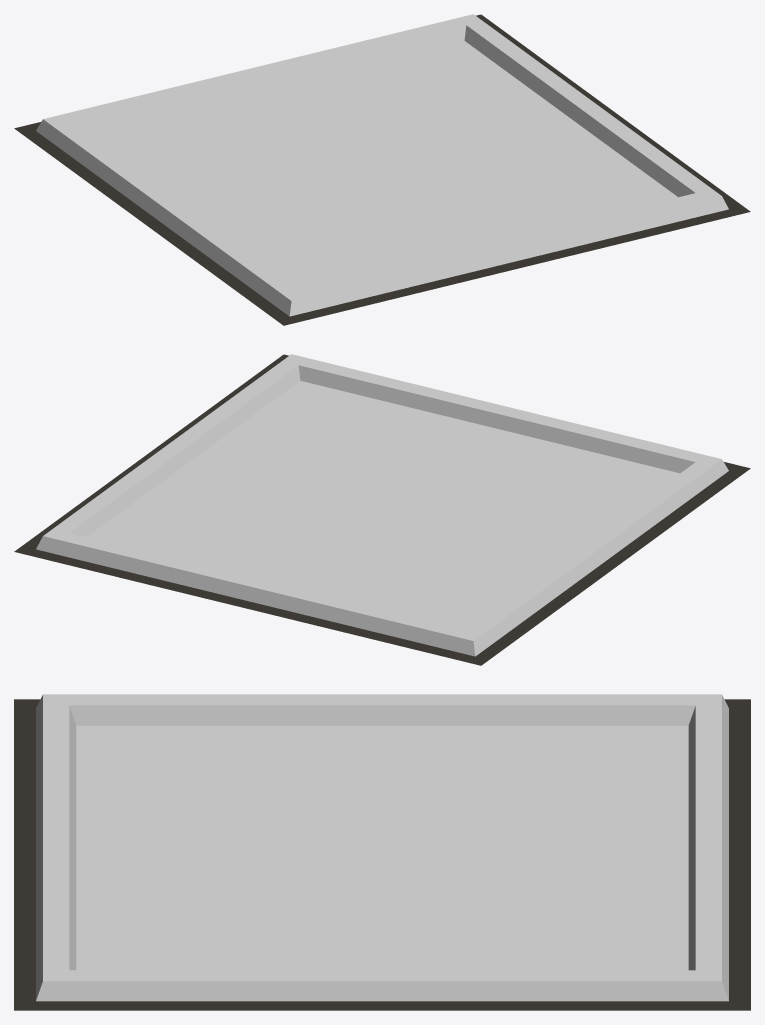
Rendered from Tile_Train.fbx.
3 views of the same model, one above another, from view 1: azimuth 30°, elevation 25°; view 2: azimuth 150°, elevation 25°; view 3: azimuth 270°, elevation 25° (orthographic). The views are drawn at different scales.
Parts seen in each view (by area): view 1: Tile_Train; view 2: Tile_Train; view 3: Tile_Train.
Boxes of the visible parts, x1=… form: Tile_Train: x1=14, y1=14, x2=750, y2=325; Tile_Train: x1=14, y1=354, x2=750, y2=665; Tile_Train: x1=14, y1=694, x2=750, y2=1010.
Size of the model in its own units: 100 by 2.56 by 100.
